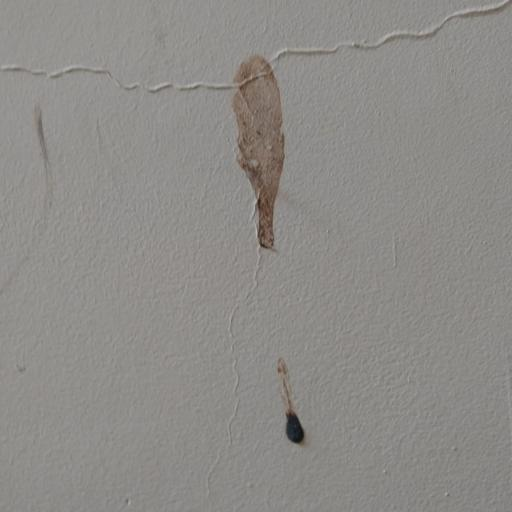stain: (187, 29, 340, 258), (259, 348, 329, 461)
